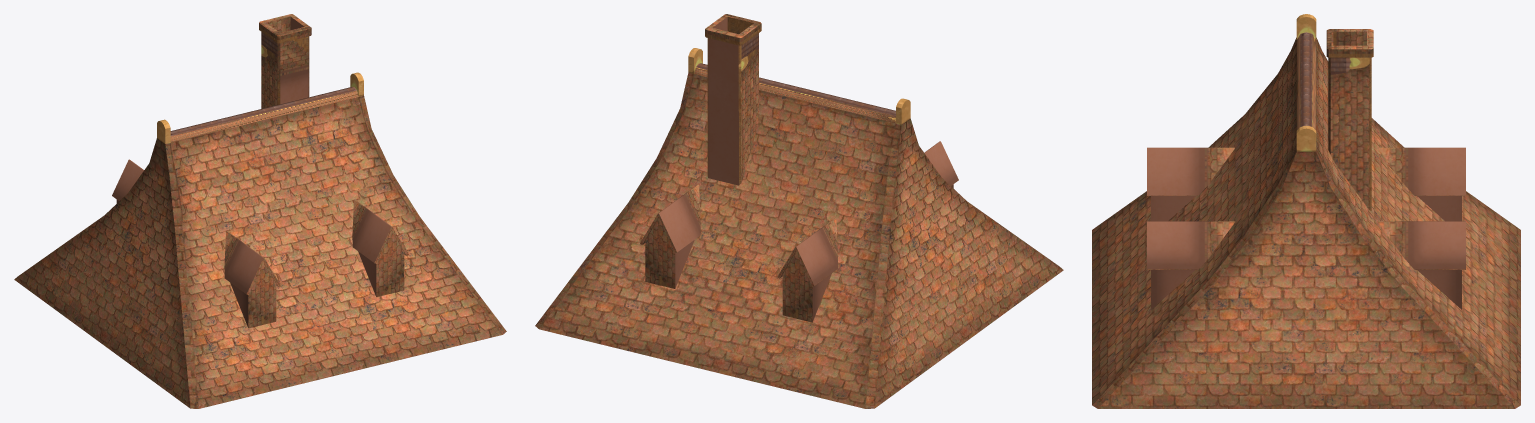
Rendered from sb_obj_outdoor001_Castle01_roof02_col.fbx.
3 views of the same model, side by side, from view 1: azimuth 30°, elevation 25°; view 2: azimuth 150°, elevation 25°; view 3: azimuth 270°, elevation 25° (orthographic). The views are drawn at different scales.
Visible parts, largest first — view 1: sb_obj_outdoor001_Castle01_roof02_col; view 2: sb_obj_outdoor001_Castle01_roof02_col; view 3: sb_obj_outdoor001_Castle01_roof02_col.
Boxes of the visible parts, x1,y1,x2,y2 form: sb_obj_outdoor001_Castle01_roof02_col: (14, 14, 506, 408); sb_obj_outdoor001_Castle01_roof02_col: (535, 14, 1063, 408); sb_obj_outdoor001_Castle01_roof02_col: (1092, 14, 1520, 408).
Size of the model in its own units: 9.89 by 7.67 by 9.81.
